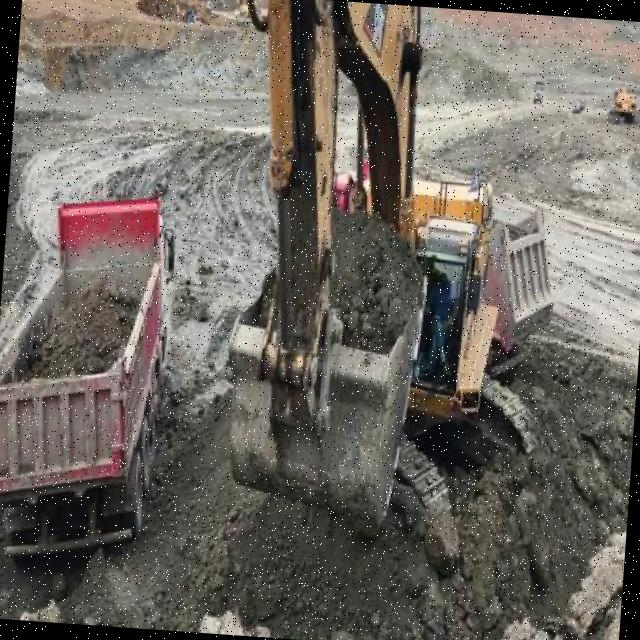Dump Truck: (0, 189, 181, 563)
Excavator: (179, 0, 571, 589), (608, 85, 636, 124)
